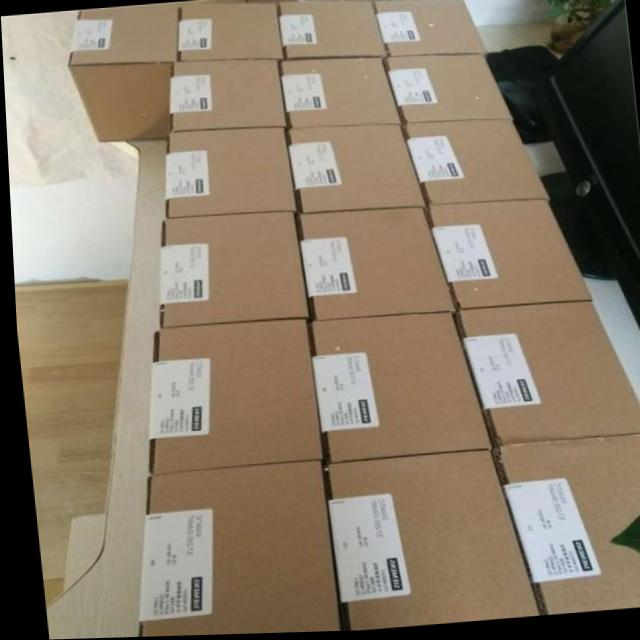box: (317, 452, 538, 633), (130, 459, 340, 638), (307, 311, 491, 464), (143, 321, 319, 479), (488, 435, 640, 616), (451, 305, 640, 445), (418, 200, 594, 311), (296, 208, 454, 322), (156, 212, 302, 330), (67, 4, 180, 139), (285, 126, 429, 215), (165, 128, 300, 219), (404, 125, 547, 206), (273, 55, 401, 132), (384, 58, 514, 126), (173, 60, 282, 130), (371, 0, 486, 58), (178, 2, 281, 63), (280, 3, 386, 61)
